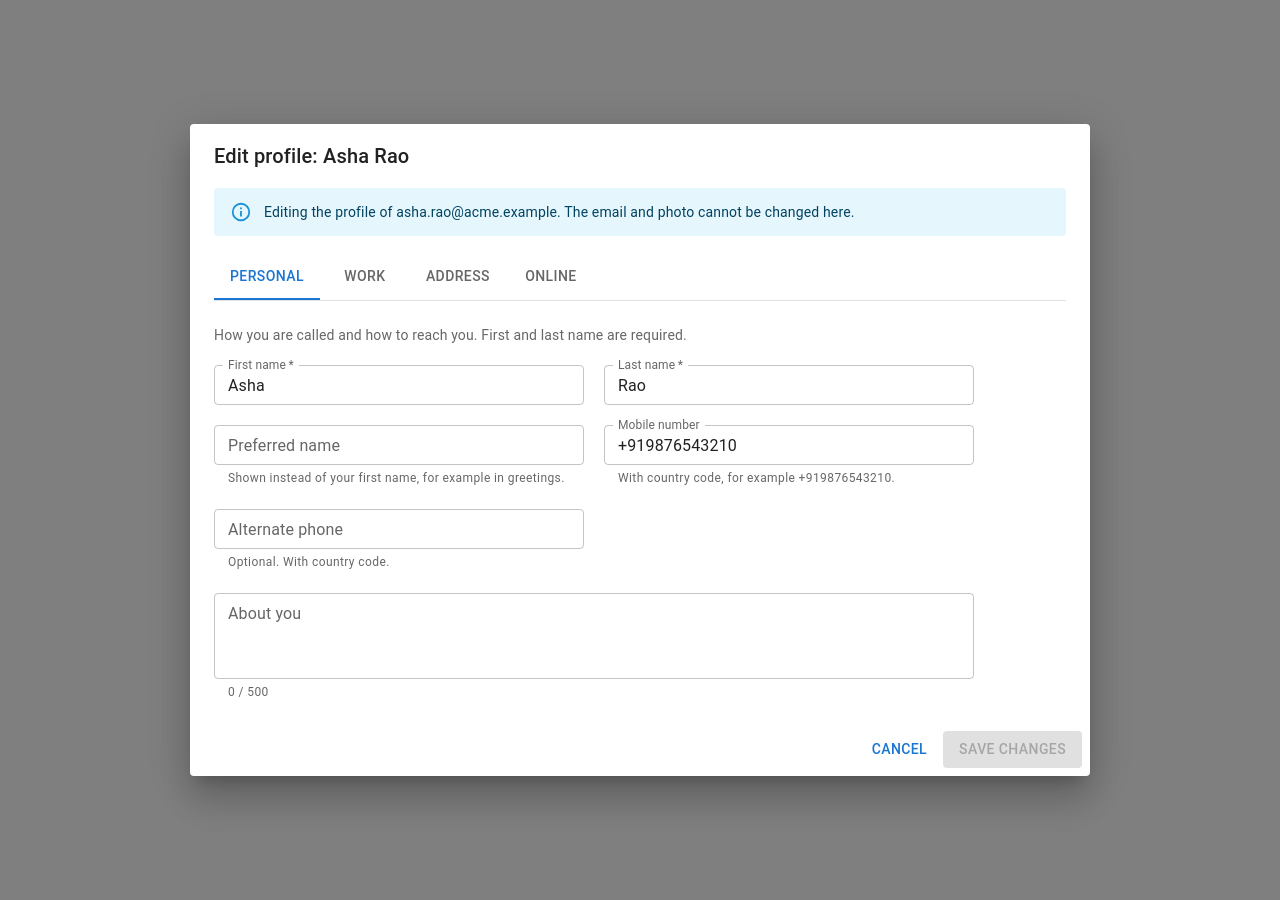
Test: ProfileEditDialog (platform administrator) › shows the server's field errors on the right tab and stays open
In the text box labelled "About you": (594, 636) [228,602,960,671], type "hello"
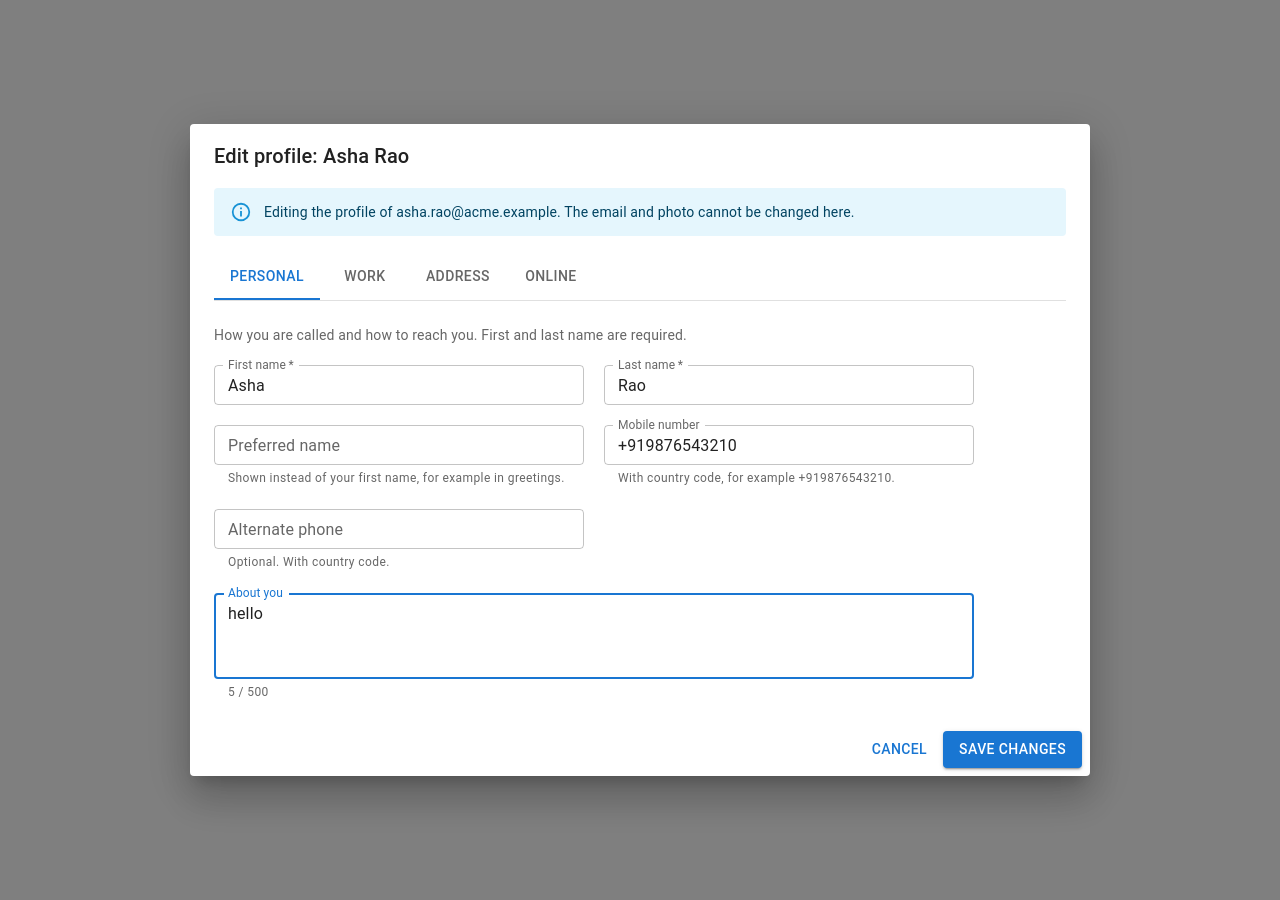
Click the button "Save changes": (1013, 749) [943,731,1082,768]
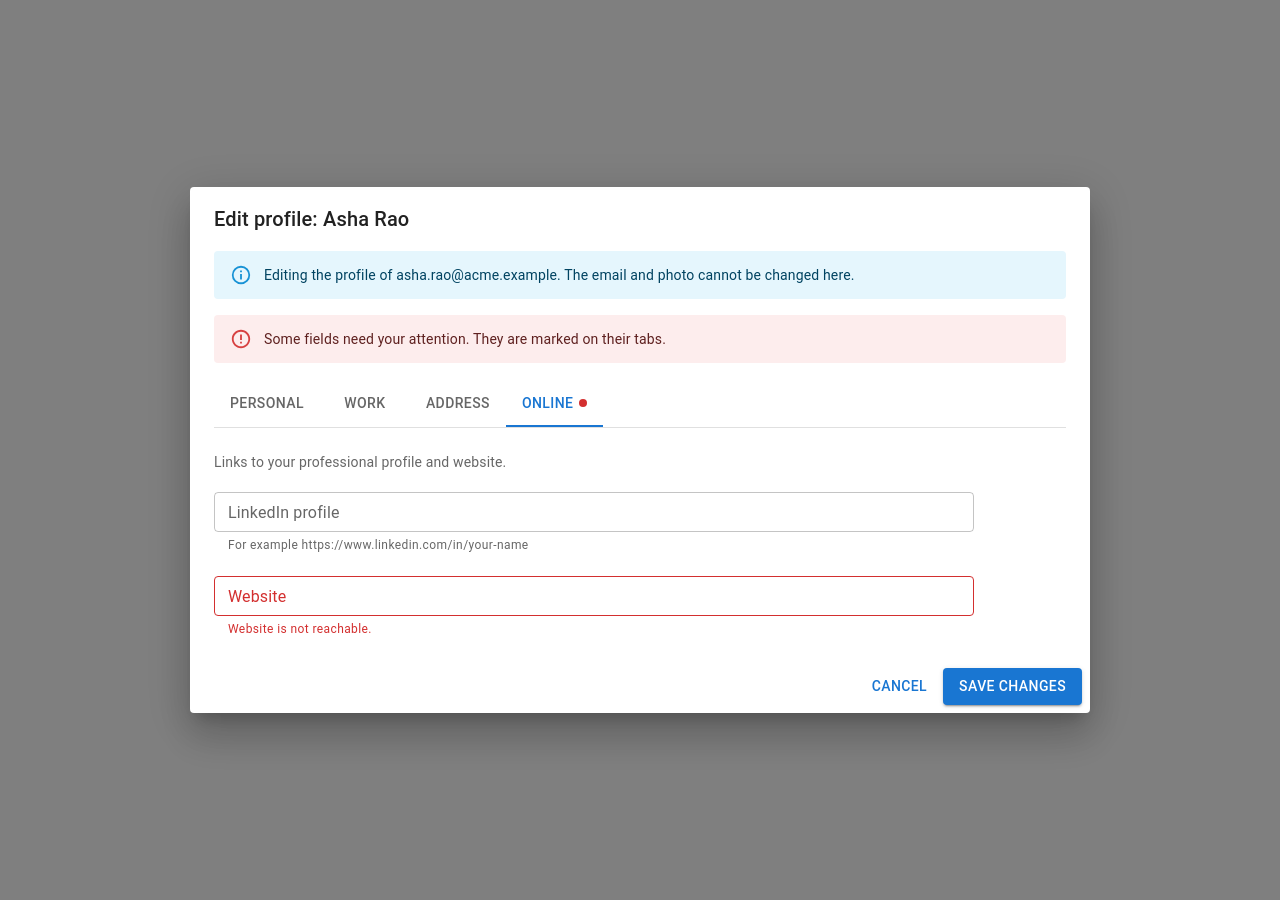
Expected: the tab "Online" is shown, [506,379,603,427]
Expected: the text "Website is not reachable." is shown, [228,622,372,636]
